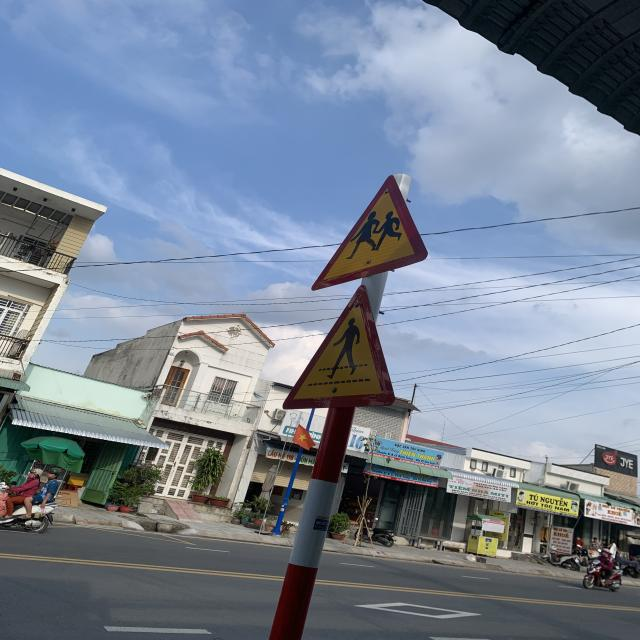Duong_Nguoi_Di_Bo_Sang_Ngang: (279, 286, 396, 410)
Vong_Xuyen: (311, 175, 432, 292)
